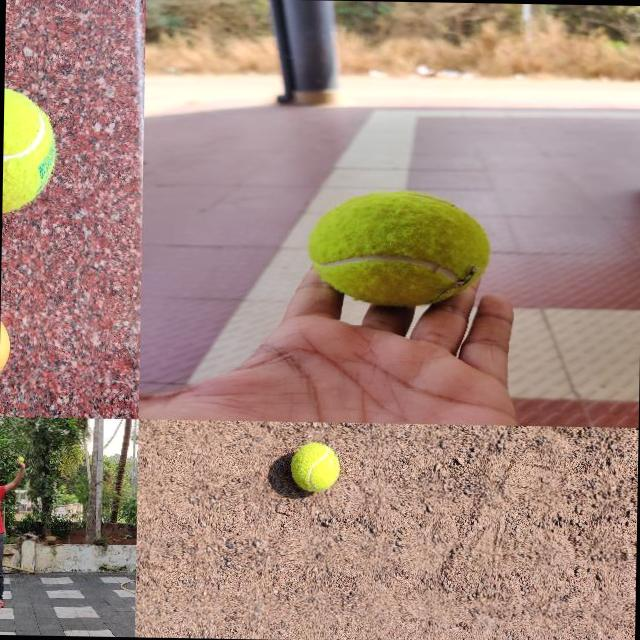Tennis Ball: (304, 190, 490, 309), (2, 86, 56, 214), (290, 442, 339, 492), (18, 457, 24, 462)
